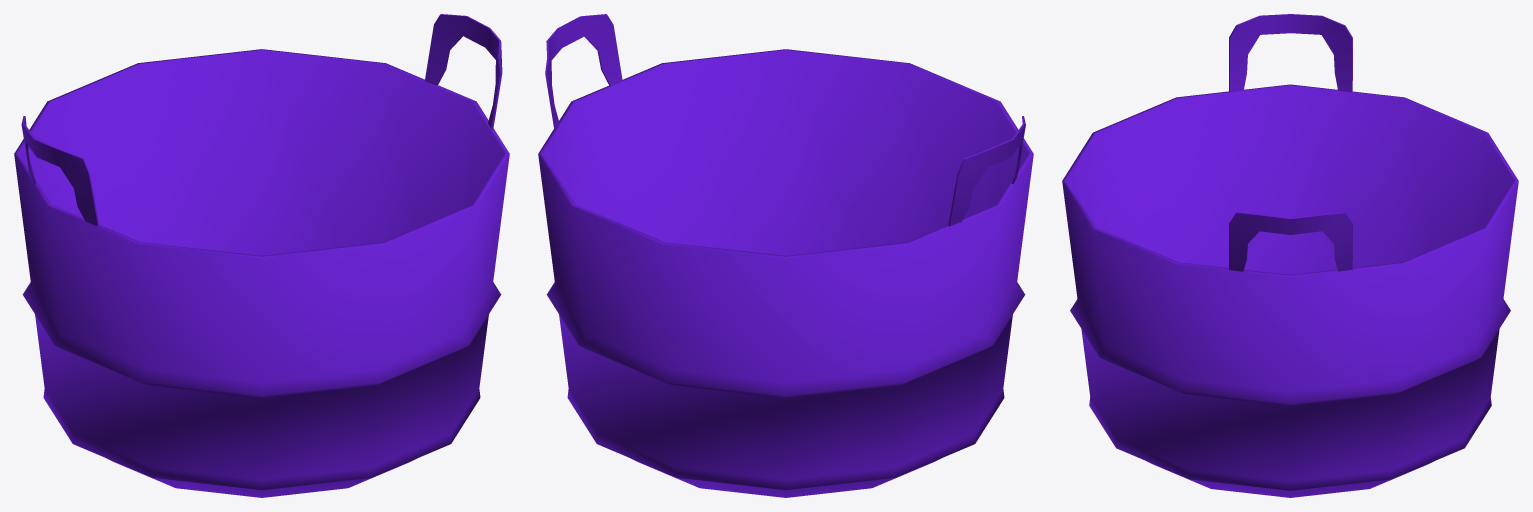
Rendered from Laundry_Tub_E.FBX.
3 renders of one model, left to right at view 1: azimuth 30°, elevation 25°; view 2: azimuth 150°, elevation 25°; view 3: azimuth 270°, elevation 25°, orthographic. The views are drawn at different scales.
Parts seen in each view (by area): view 1: Laundry_Tub; view 2: Laundry_Tub; view 3: Laundry_Tub.
Part boxes in pixels (box(x1,y1,x2,y2)): Laundry_Tub: box(14, 14, 509, 497); Laundry_Tub: box(538, 14, 1033, 497); Laundry_Tub: box(1062, 14, 1518, 497).
Size of the model in its own units: 102 by 73.29 by 96.11.
